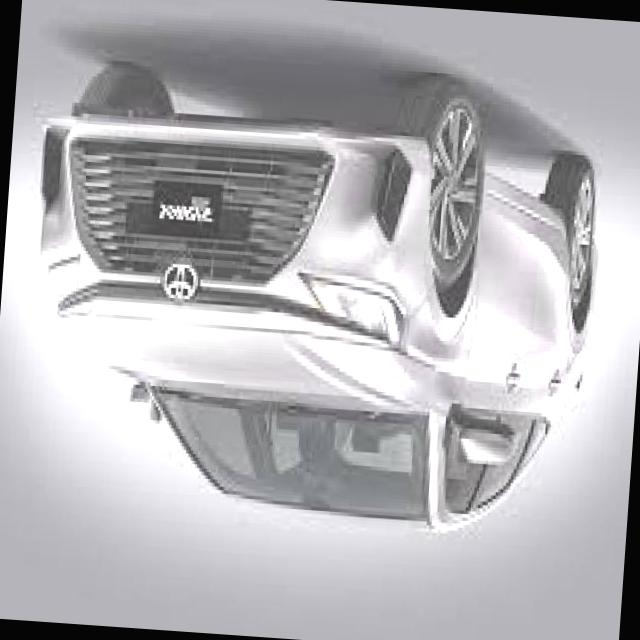ToyotaVios: (12, 47, 610, 544)
